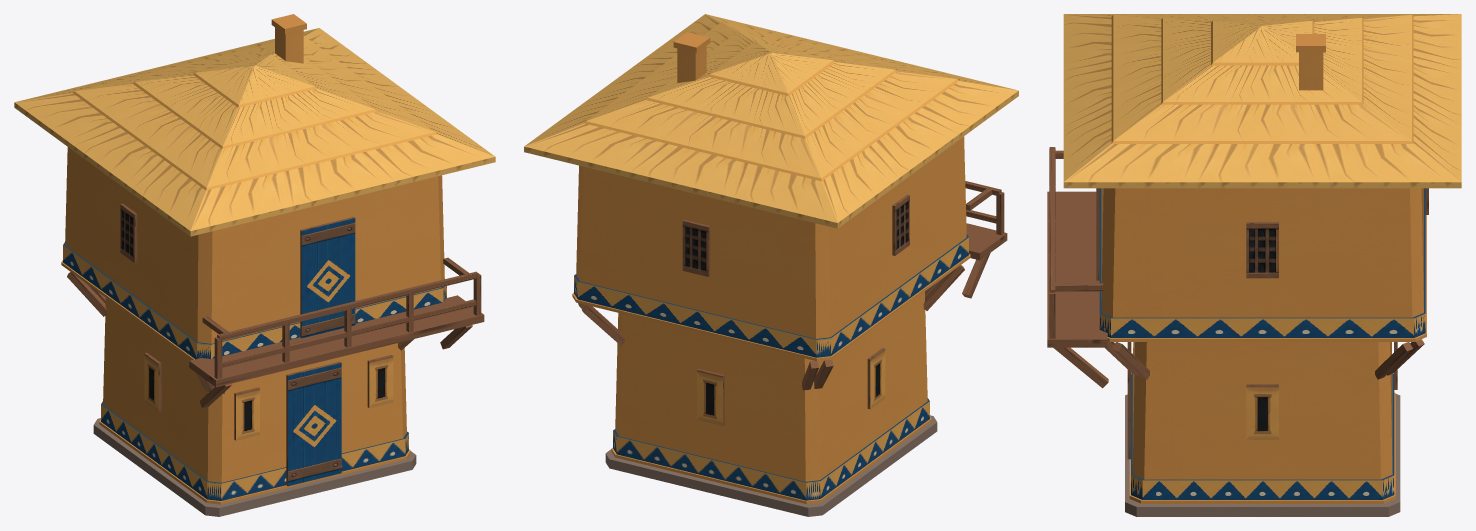
Rendered from rc_village_hut_square_2f_overhang.glb.
3 views of the same model, side by side, from view 1: azimuth 30°, elevation 25°; view 2: azimuth 150°, elevation 25°; view 3: azimuth 270°, elevation 25° (orthographic). The views are drawn at different scales.
Visible parts, largest first — view 1: SM_RC_MudHut_Square_2F_Overhang; view 2: SM_RC_MudHut_Square_2F_Overhang; view 3: SM_RC_MudHut_Square_2F_Overhang.
Part boxes in pixels (left/top/right/bottom): SM_RC_MudHut_Square_2F_Overhang: left=14, top=14, right=495, bottom=516; SM_RC_MudHut_Square_2F_Overhang: left=524, top=14, right=1018, bottom=516; SM_RC_MudHut_Square_2F_Overhang: left=1047, top=14, right=1461, bottom=516.
Size of the model in its own units: 8.24 by 10.27 by 8.57.
1 material, 1 textured.
